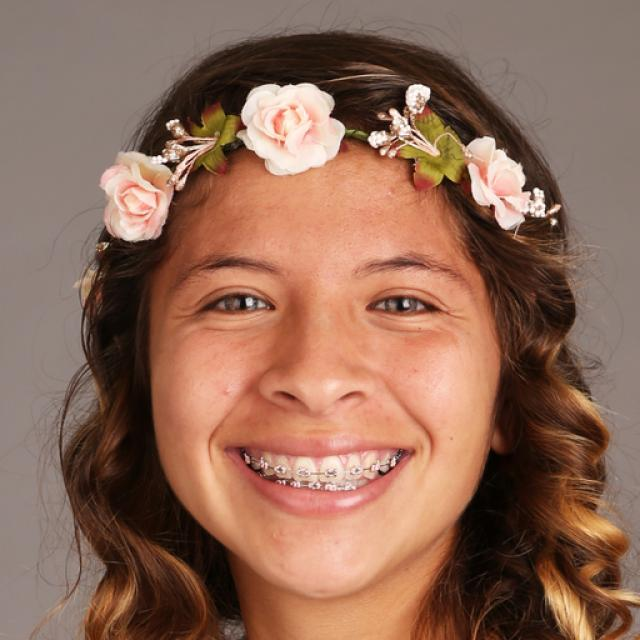Acne: (212, 384, 238, 399)
